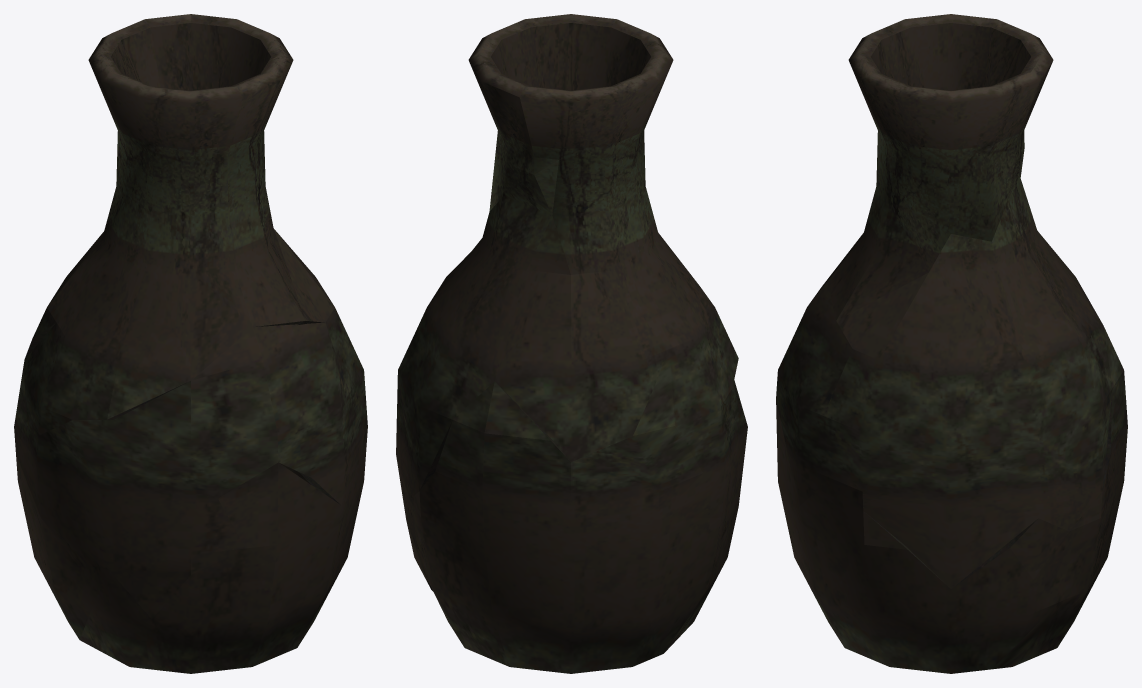
Rendered from vase01_broken.dae.
The picture shows the model from 3 angles, left to right: view 1: azimuth 30°, elevation 25°; view 2: azimuth 150°, elevation 25°; view 3: azimuth 270°, elevation 25°; orthographic projection.
Parts seen in each view (by area): view 1: piece1, piece2, piece3, piece5, piece4; view 2: piece4, piece1, piece5, piece2, piece3; view 3: piece5, piece1, piece3, piece4, piece2.
Boxes of the visible parts, x1,y1,x2,y2 form: piece1: (24,14,305,435); piece2: (16,322,355,618); piece3: (78,445,366,673); piece5: (25,228,367,446); piece4: (14,323,92,639); piece4: (396,349,722,673); piece1: (468,14,738,449); piece5: (396,160,669,499); piece2: (659,380,747,536); piece3: (406,507,738,652); piece5: (823,148,1112,588); piece1: (822,14,1053,320); piece3: (776,399,1057,673); piece4: (992,326,1127,669); piece2: (776,282,852,505).
Bounding box in the file's own units: 0.3973 × 0.7049 × 0.3951.
